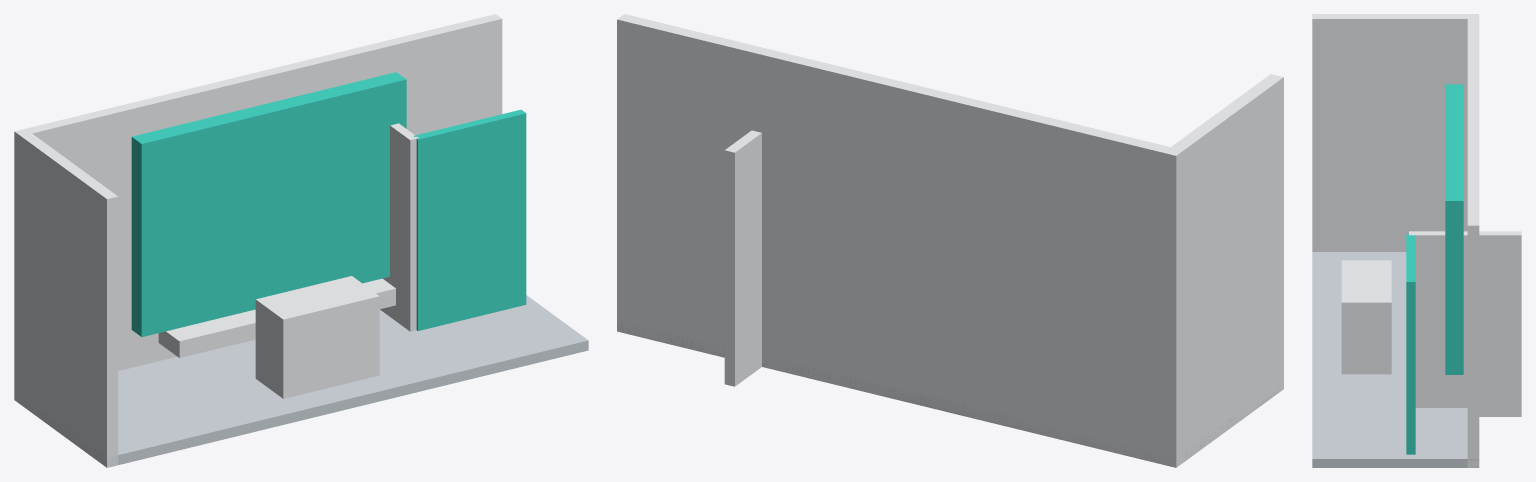
The picture shows the model from 3 angles, left to right: view 1: azimuth 30°, elevation 25°; view 2: azimuth 150°, elevation 25°; view 3: azimuth 270°, elevation 25°; orthographic projection. The views are drawn at different scales.
Visible parts, largest first — view 1: Exhibition Booth Concept; view 2: Exhibition Booth Concept; view 3: Exhibition Booth Concept.
Boxes of the visible parts, left/top/right/bottom form: Exhibition Booth Concept: left=14, top=14, right=588, bottom=467; Exhibition Booth Concept: left=617, top=14, right=1283, bottom=467; Exhibition Booth Concept: left=1312, top=14, right=1521, bottom=467.
Bounding box in the file's own units: 6 × 3.2 × 2.5.
